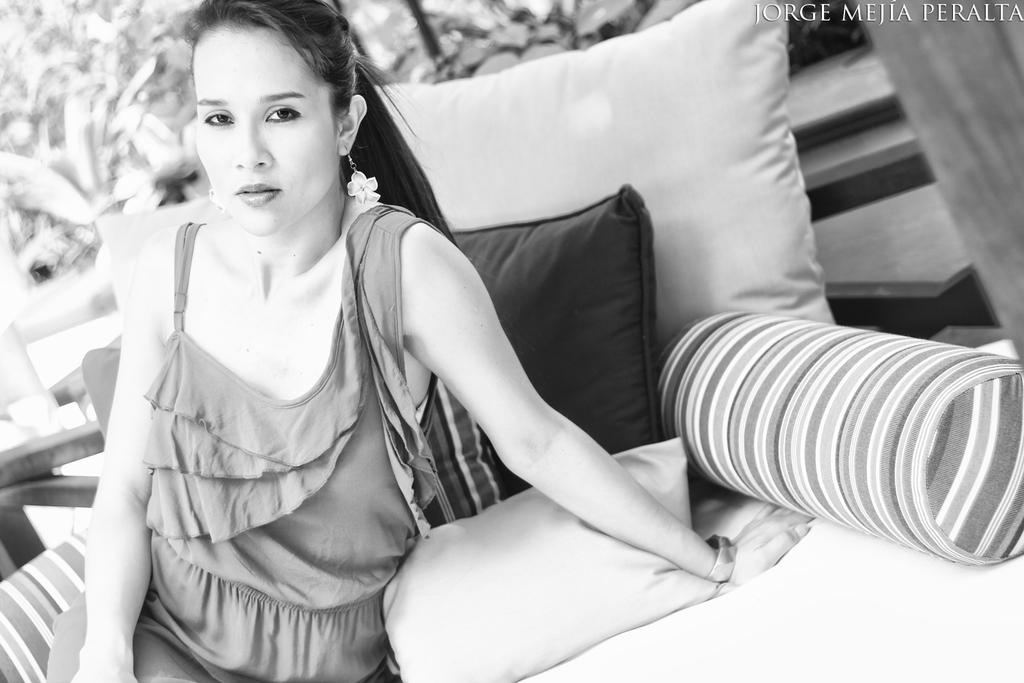Sem Máscara: (192, 22, 338, 230)
